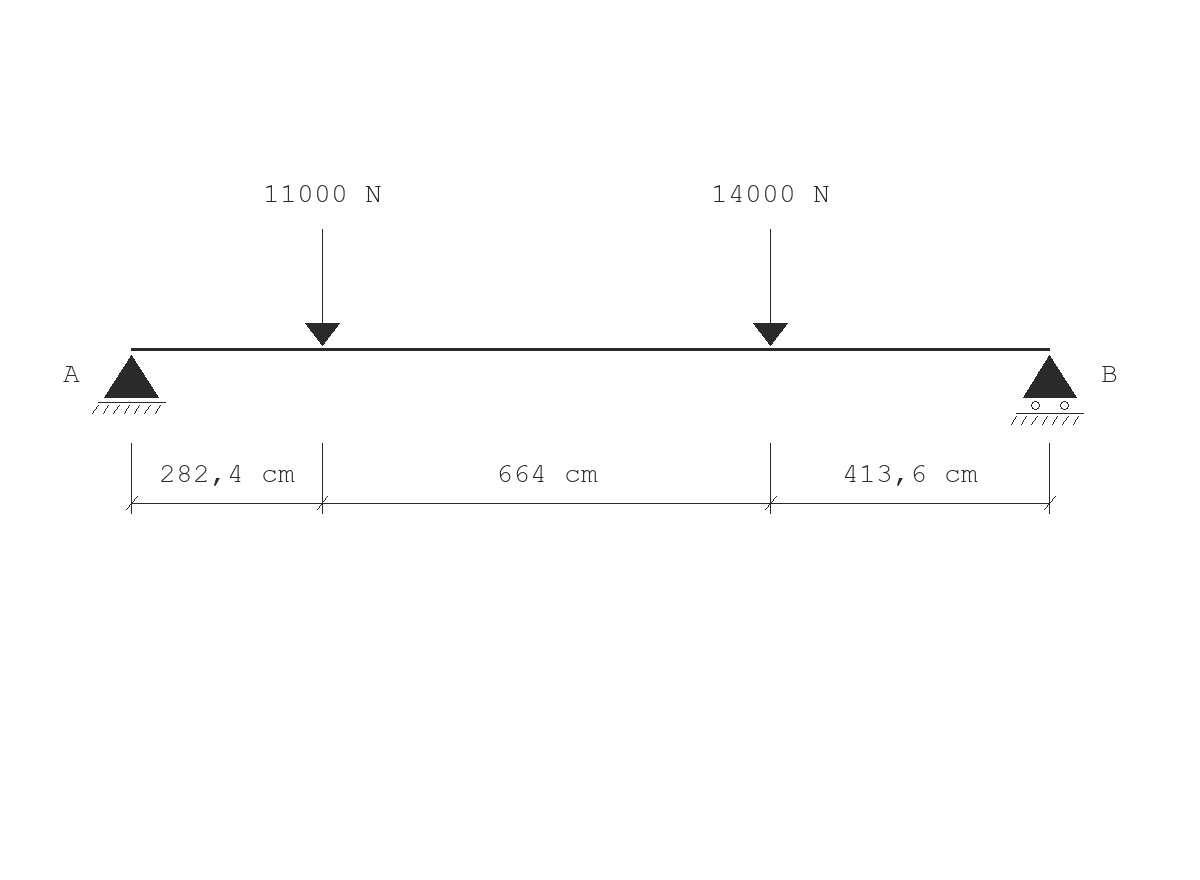pin_support: (92, 355, 166, 414)
point_load: (305, 229, 340, 346), (753, 229, 788, 346)
roller_support: (1011, 355, 1084, 425)
